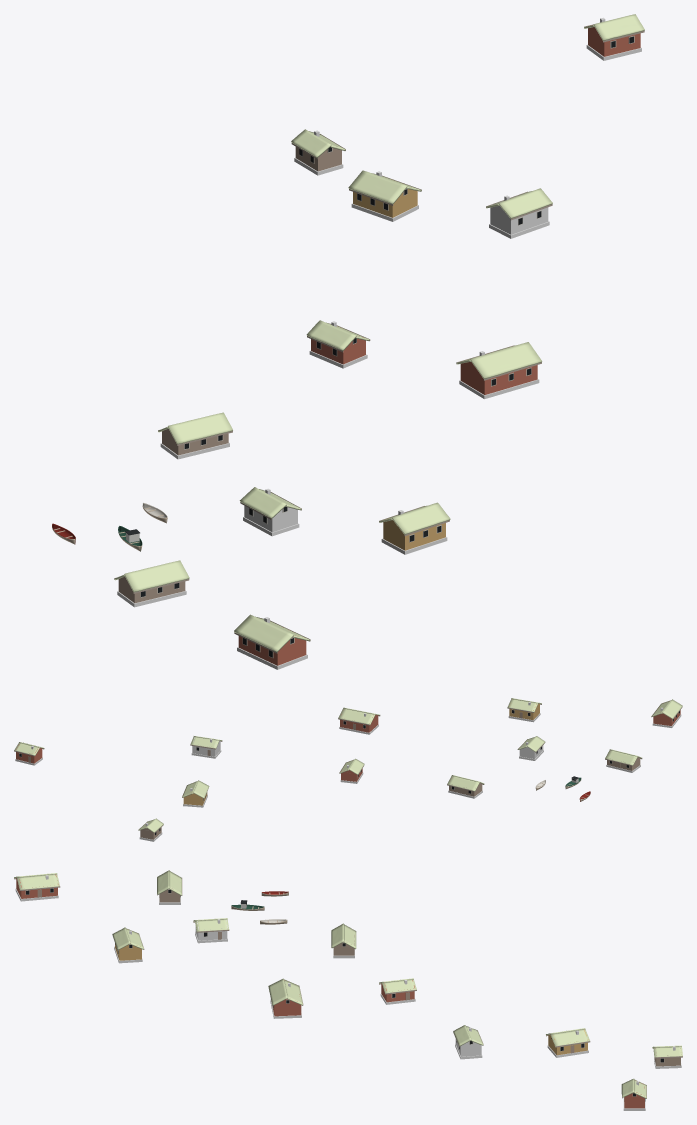
Rendered from village.glb.
3 renders of one model, top to bottom at view 1: azimuth 30°, elevation 25°; view 2: azimuth 150°, elevation 25°; view 3: azimuth 270°, elevation 25°, orthographic. The views are drawn at different scales.
Parts seen in each view (by area): view 1: village; view 2: village; view 3: village.
Part boxes in pixels (left/top/right/bottom): village: left=52, top=14, right=644, bottom=669; village: left=14, top=698, right=682, bottom=841; village: left=14, top=870, right=682, bottom=1110.
Size of the model in its own units: 156 by 18.81 by 161.
